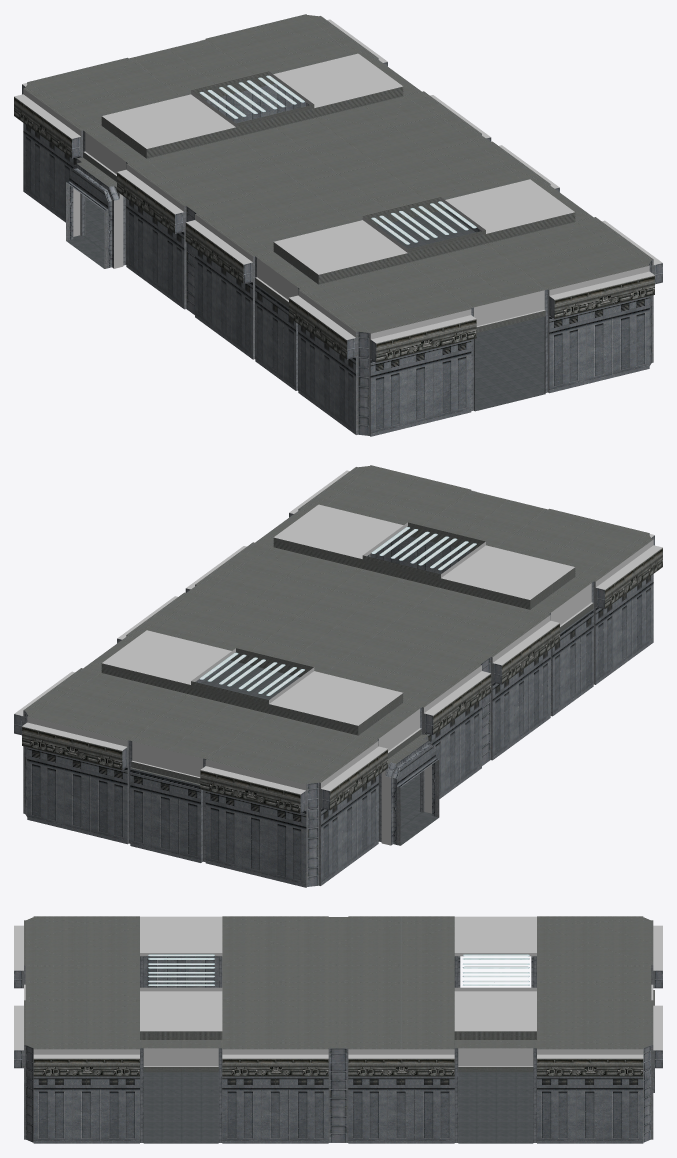
File: poi_all_impl_bunker_small_outpost_s01_r10_reception_mesh.fbx
3 renders of one model, top to bottom at view 1: azimuth 30°, elevation 25°; view 2: azimuth 150°, elevation 25°; view 3: azimuth 270°, elevation 25°, orthographic. The views are drawn at different scales.
Visible parts, largest first — view 1: mesh_node; view 2: mesh_node; view 3: mesh_node.
Boxes of the visible parts, x1=… form: mesh_node: x1=14, y1=14, x2=662, y2=436; mesh_node: x1=14, y1=465, x2=662, y2=887; mesh_node: x1=14, y1=916, x2=662, y2=1143.
Bounding box in the file's own units: 17.5 × 6 × 33.
